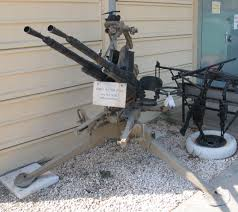gun: (19, 21, 160, 124)
